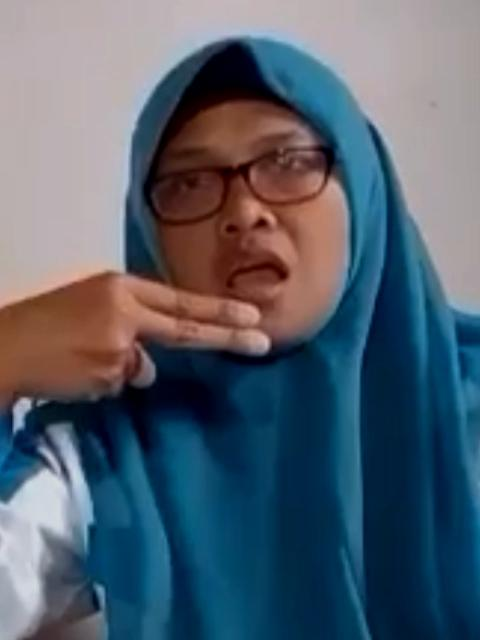H: (1, 264, 278, 426)
